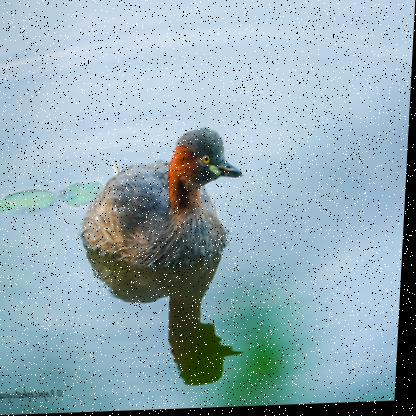Burung: (84, 128, 247, 268)
